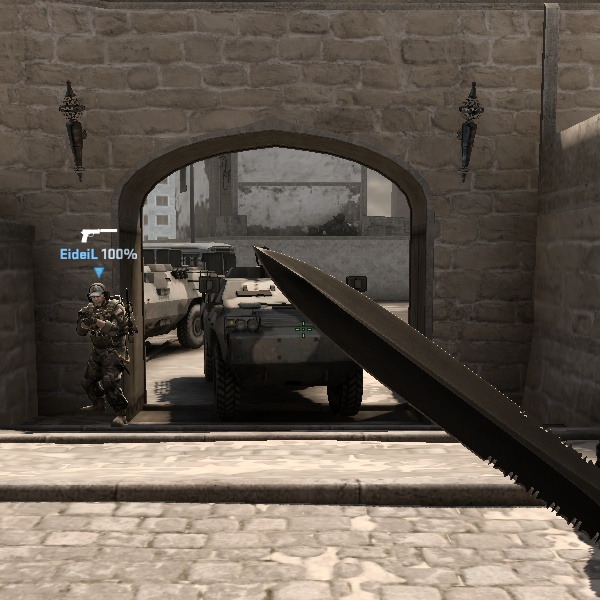ct_body: (61, 275, 144, 427)
ct_head: (80, 280, 114, 313)
